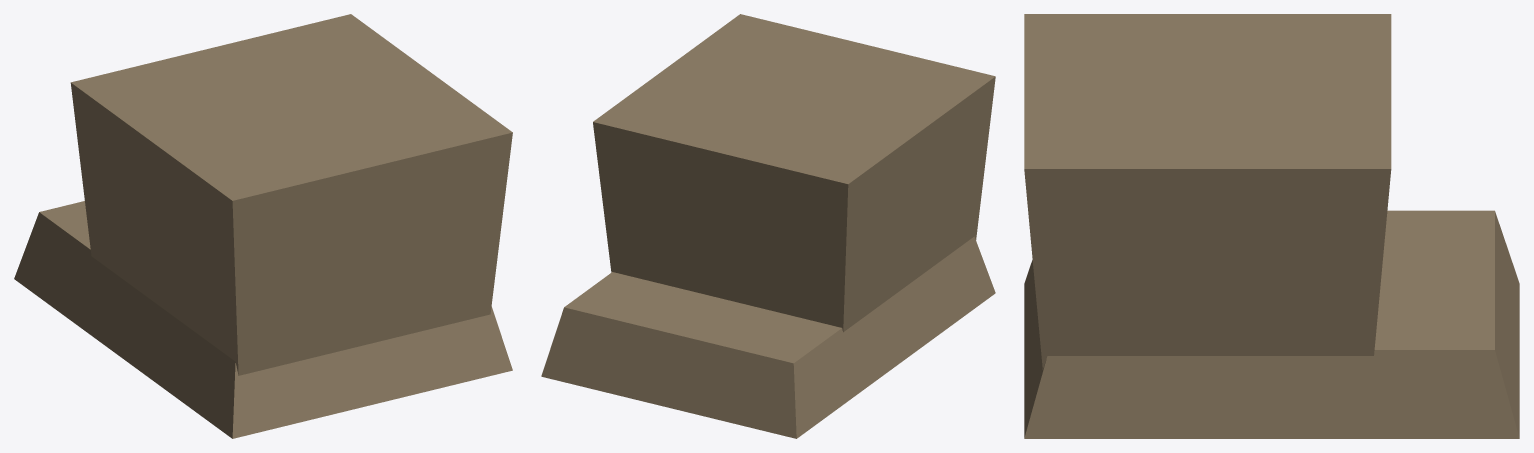
The model's file is animal_dryad_carrier_leg.obj.
3 renders of one model, left to right at view 1: azimuth 30°, elevation 25°; view 2: azimuth 150°, elevation 25°; view 3: azimuth 270°, elevation 25°, orthographic. The views are drawn at different scales.
Parts seen in each view (by area): view 1: animal_dryad_carrier_leg; view 2: animal_dryad_carrier_leg; view 3: animal_dryad_carrier_leg.
Part boxes in pixels (<box>): animal_dryad_carrier_leg: <box>14,14,512,438</box>; animal_dryad_carrier_leg: <box>541,14,995,438</box>; animal_dryad_carrier_leg: <box>1024,14,1519,438</box>.
Bounding box in the file's own units: 0.1346 × 0.1092 × 0.1817.
